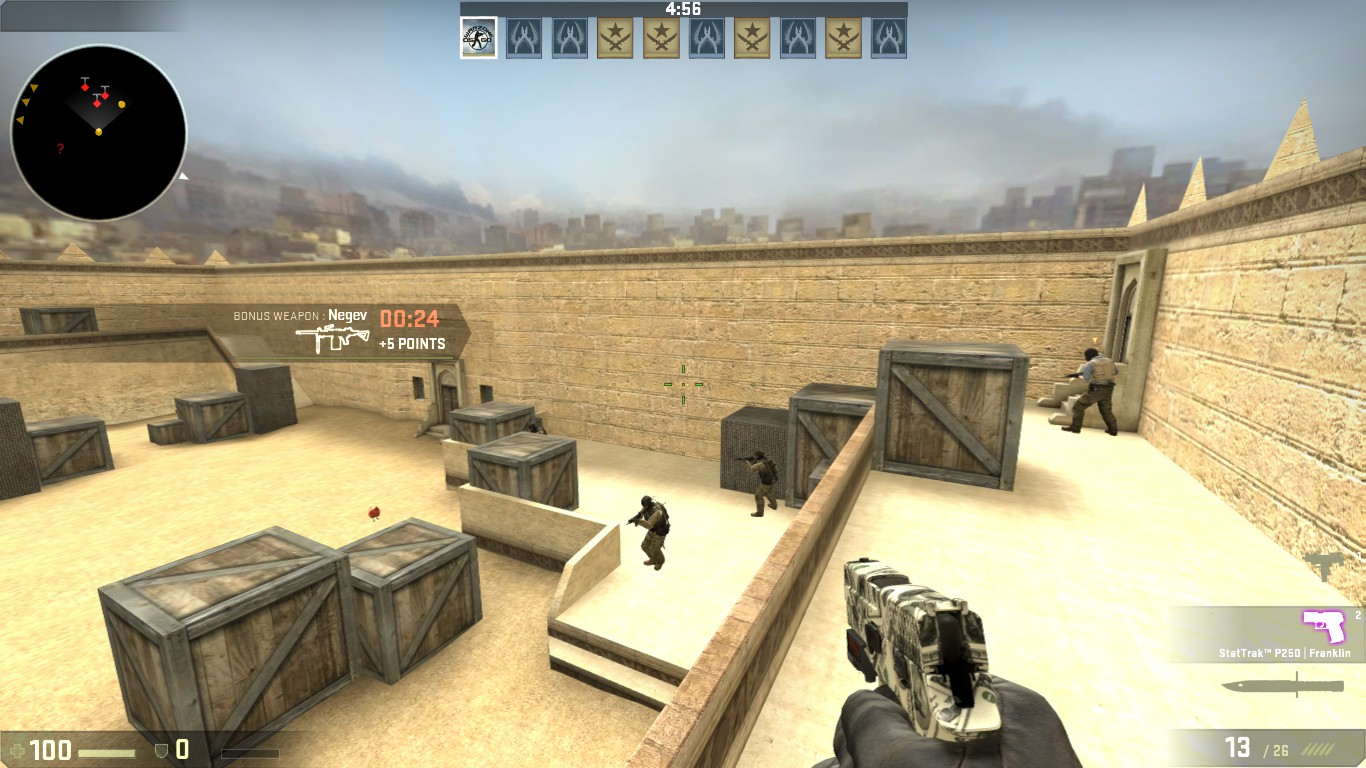c: (639, 491, 669, 568), (748, 449, 778, 517)
ch: (640, 494, 654, 510), (753, 451, 765, 463)
t: (1071, 345, 1118, 432)
th: (1081, 347, 1102, 366)
